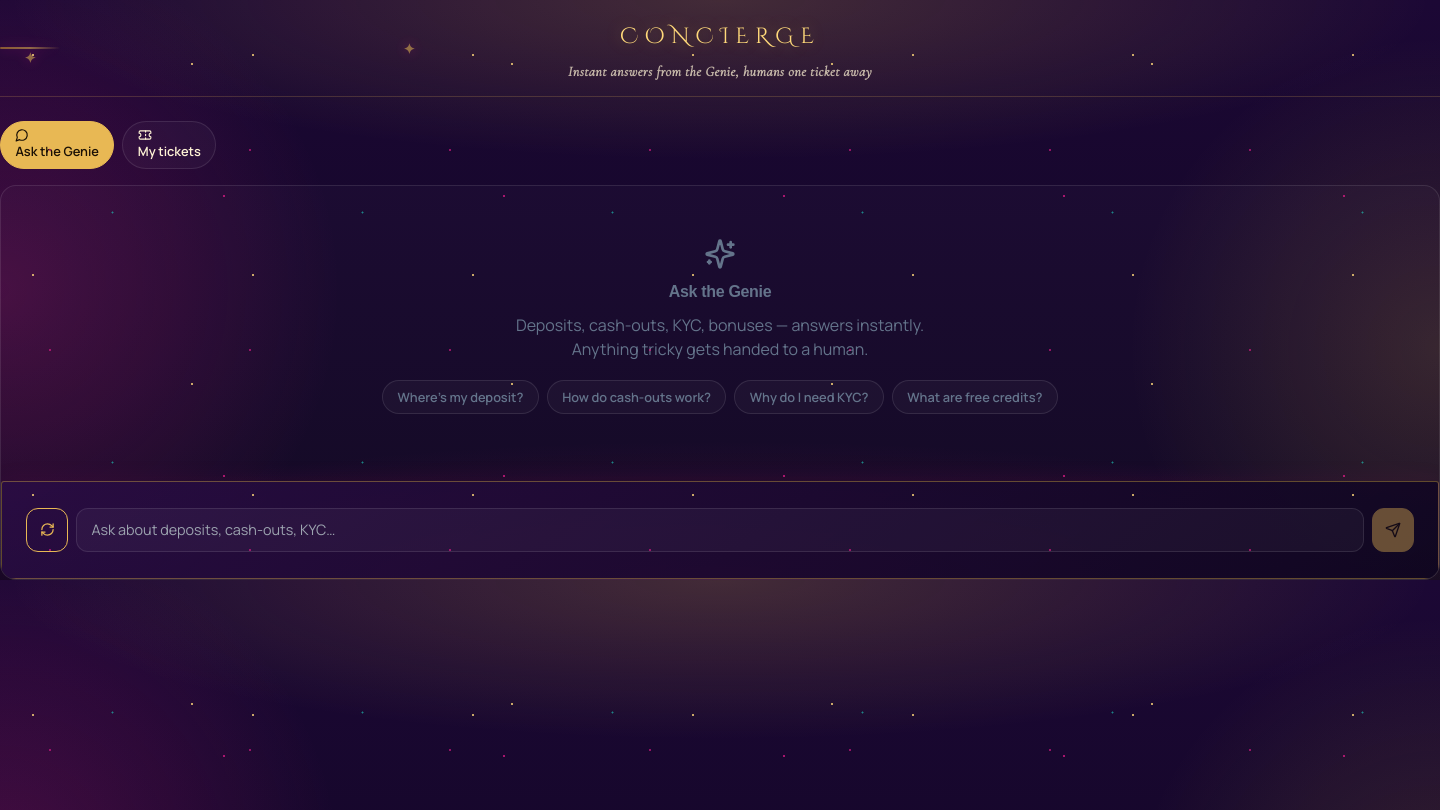
Test: Concierge Genie cycle › lists tickets and opens the operator thread
Click the button with test id "concierge-view-tickets" at (169, 145), box [122,121,216,169]
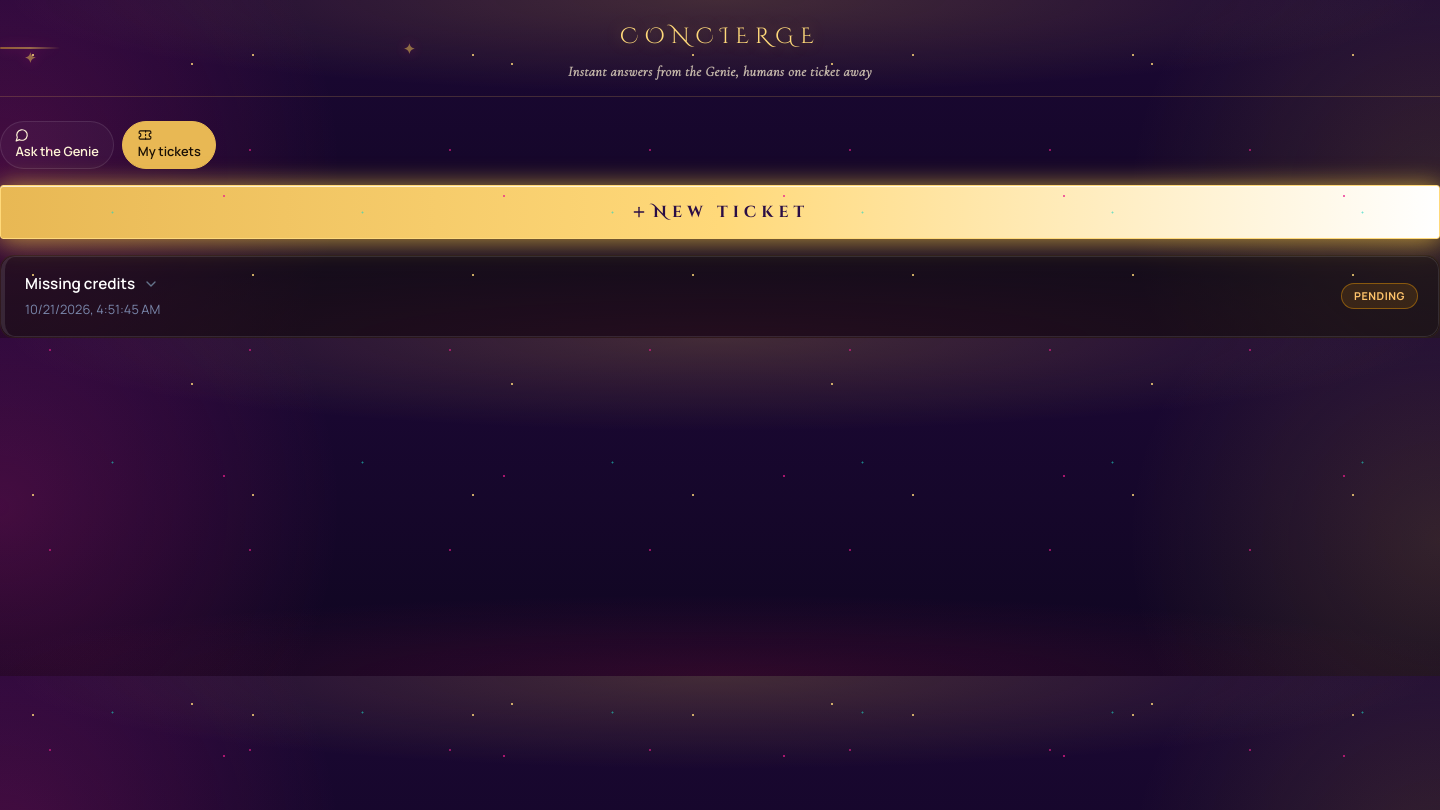
Result: the text "Missing credits" is shown at [25,273,135,296]
Click the button with test id "ticket-toggle" at (92, 284), box [25,273,159,296]
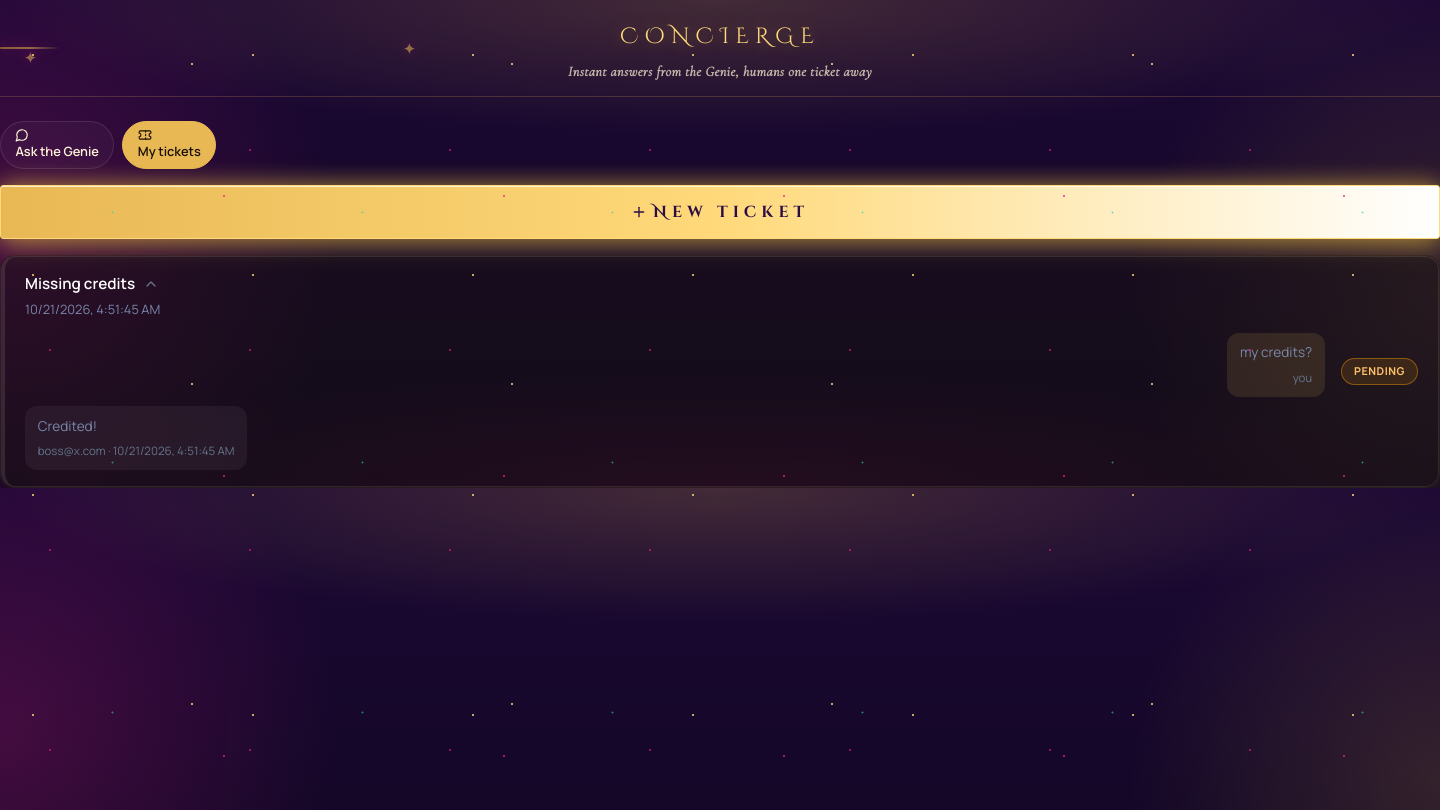
Result: the element with test id "ticket-thread" is shown at [25,333,1325,470]
Result: the text "Credited!" is shown at [38,417,97,435]
Result: the text "boss@x.com · 10/21/2026, 4:51:45 AM" is shown at [38,443,235,458]
